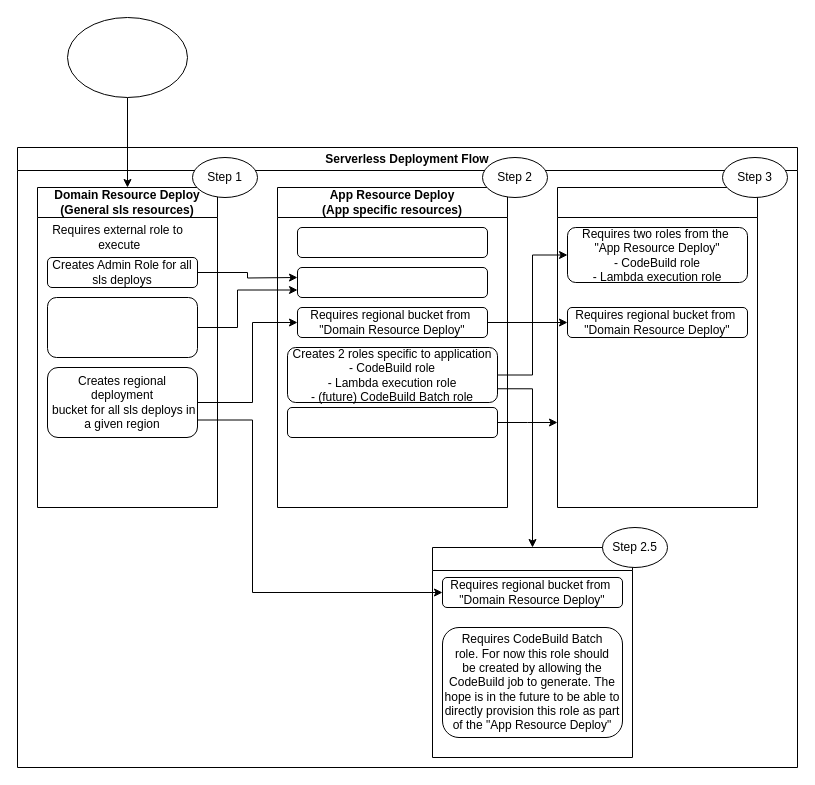
This 815x785 diagram has some shape labels left out. Each missing label, with the box of its shape:
App Deploy (App ONLY): (556, 186, 758, 508)
Creates any other resources defined for the application: (286, 406, 498, 438)
Creates CodeBuild resource role for all sls resource deploys: (46, 296, 198, 358)
DOES NOT require ANY resources external to sls definition: (296, 226, 488, 258)
External Role: (66, 16, 188, 98)
Requires both roles from the "Domain Resource Deploy": (296, 266, 488, 298)
Test App: (432, 546, 632, 758)
